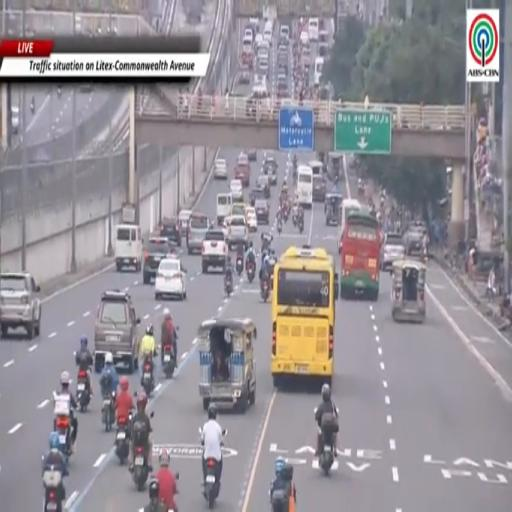bus: (271, 247, 338, 388), (340, 212, 381, 301), (341, 199, 361, 232), (296, 166, 312, 207)
car: (93, 291, 140, 373), (0, 272, 41, 339), (142, 237, 172, 285), (155, 258, 186, 299), (187, 213, 211, 254), (381, 233, 405, 269), (159, 217, 184, 247), (227, 216, 248, 249), (234, 154, 250, 186), (262, 156, 278, 186), (255, 199, 269, 225), (313, 175, 326, 202), (257, 174, 270, 199), (179, 210, 191, 235), (246, 206, 257, 232), (214, 159, 227, 180), (230, 180, 243, 201), (249, 187, 264, 205), (277, 77, 288, 97), (222, 216, 231, 239), (239, 67, 251, 84), (277, 54, 289, 70), (258, 58, 269, 74), (277, 42, 289, 56), (245, 148, 257, 161), (254, 34, 263, 50), (300, 31, 309, 45)
jeepney: (197, 318, 257, 412), (391, 260, 426, 323), (325, 194, 342, 226)
motorcycle: (53, 391, 75, 460), (42, 467, 64, 511), (115, 412, 132, 465), (318, 429, 337, 475), (203, 458, 220, 509), (132, 444, 149, 491), (56, 415, 70, 459), (319, 437, 334, 475), (77, 371, 90, 412), (102, 392, 115, 431), (141, 357, 154, 396), (163, 344, 176, 378), (224, 275, 233, 298), (261, 278, 269, 303), (247, 262, 254, 283), (236, 256, 243, 276), (283, 205, 288, 222), (298, 217, 303, 234), (277, 219, 282, 234), (292, 214, 297, 227), (30, 98, 34, 114), (57, 86, 61, 98)
truck: (202, 230, 227, 274)
